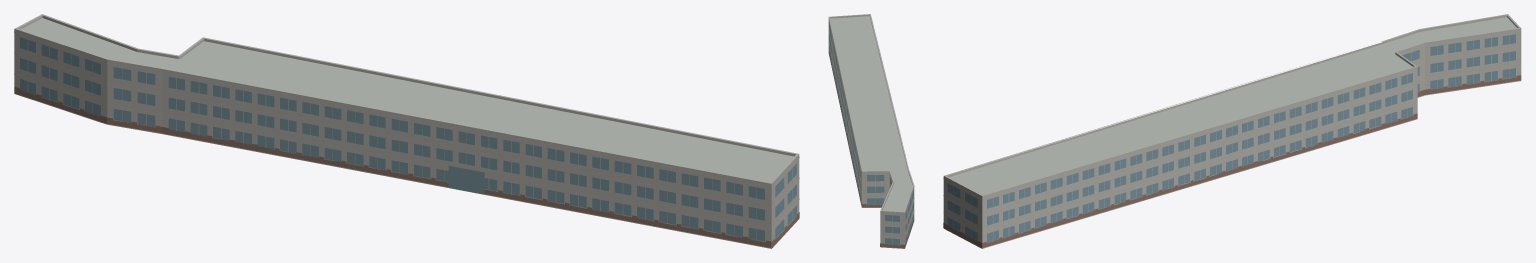
The model's file is public-1b40bb2b-4233-4125-ad91-58374ae44ba7.glb.
3 views of the same model, side by side, from view 1: azimuth 30°, elevation 25°; view 2: azimuth 150°, elevation 25°; view 3: azimuth 270°, elevation 25° (orthographic). The views are drawn at different scales.
Parts seen in each view (by area): view 1: public-1b40bb2b-4233-4125-ad91-58374ae44ba7; view 2: public-1b40bb2b-4233-4125-ad91-58374ae44ba7; view 3: public-1b40bb2b-4233-4125-ad91-58374ae44ba7.
Part boxes in pixels (x1,y1,x2,y2): public-1b40bb2b-4233-4125-ad91-58374ae44ba7: (14,14,799,248); public-1b40bb2b-4233-4125-ad91-58374ae44ba7: (828,14,914,248); public-1b40bb2b-4233-4125-ad91-58374ae44ba7: (943,14,1521,248).
Size of the model in its own units: 67.8 by 9.15 by 90.81.
